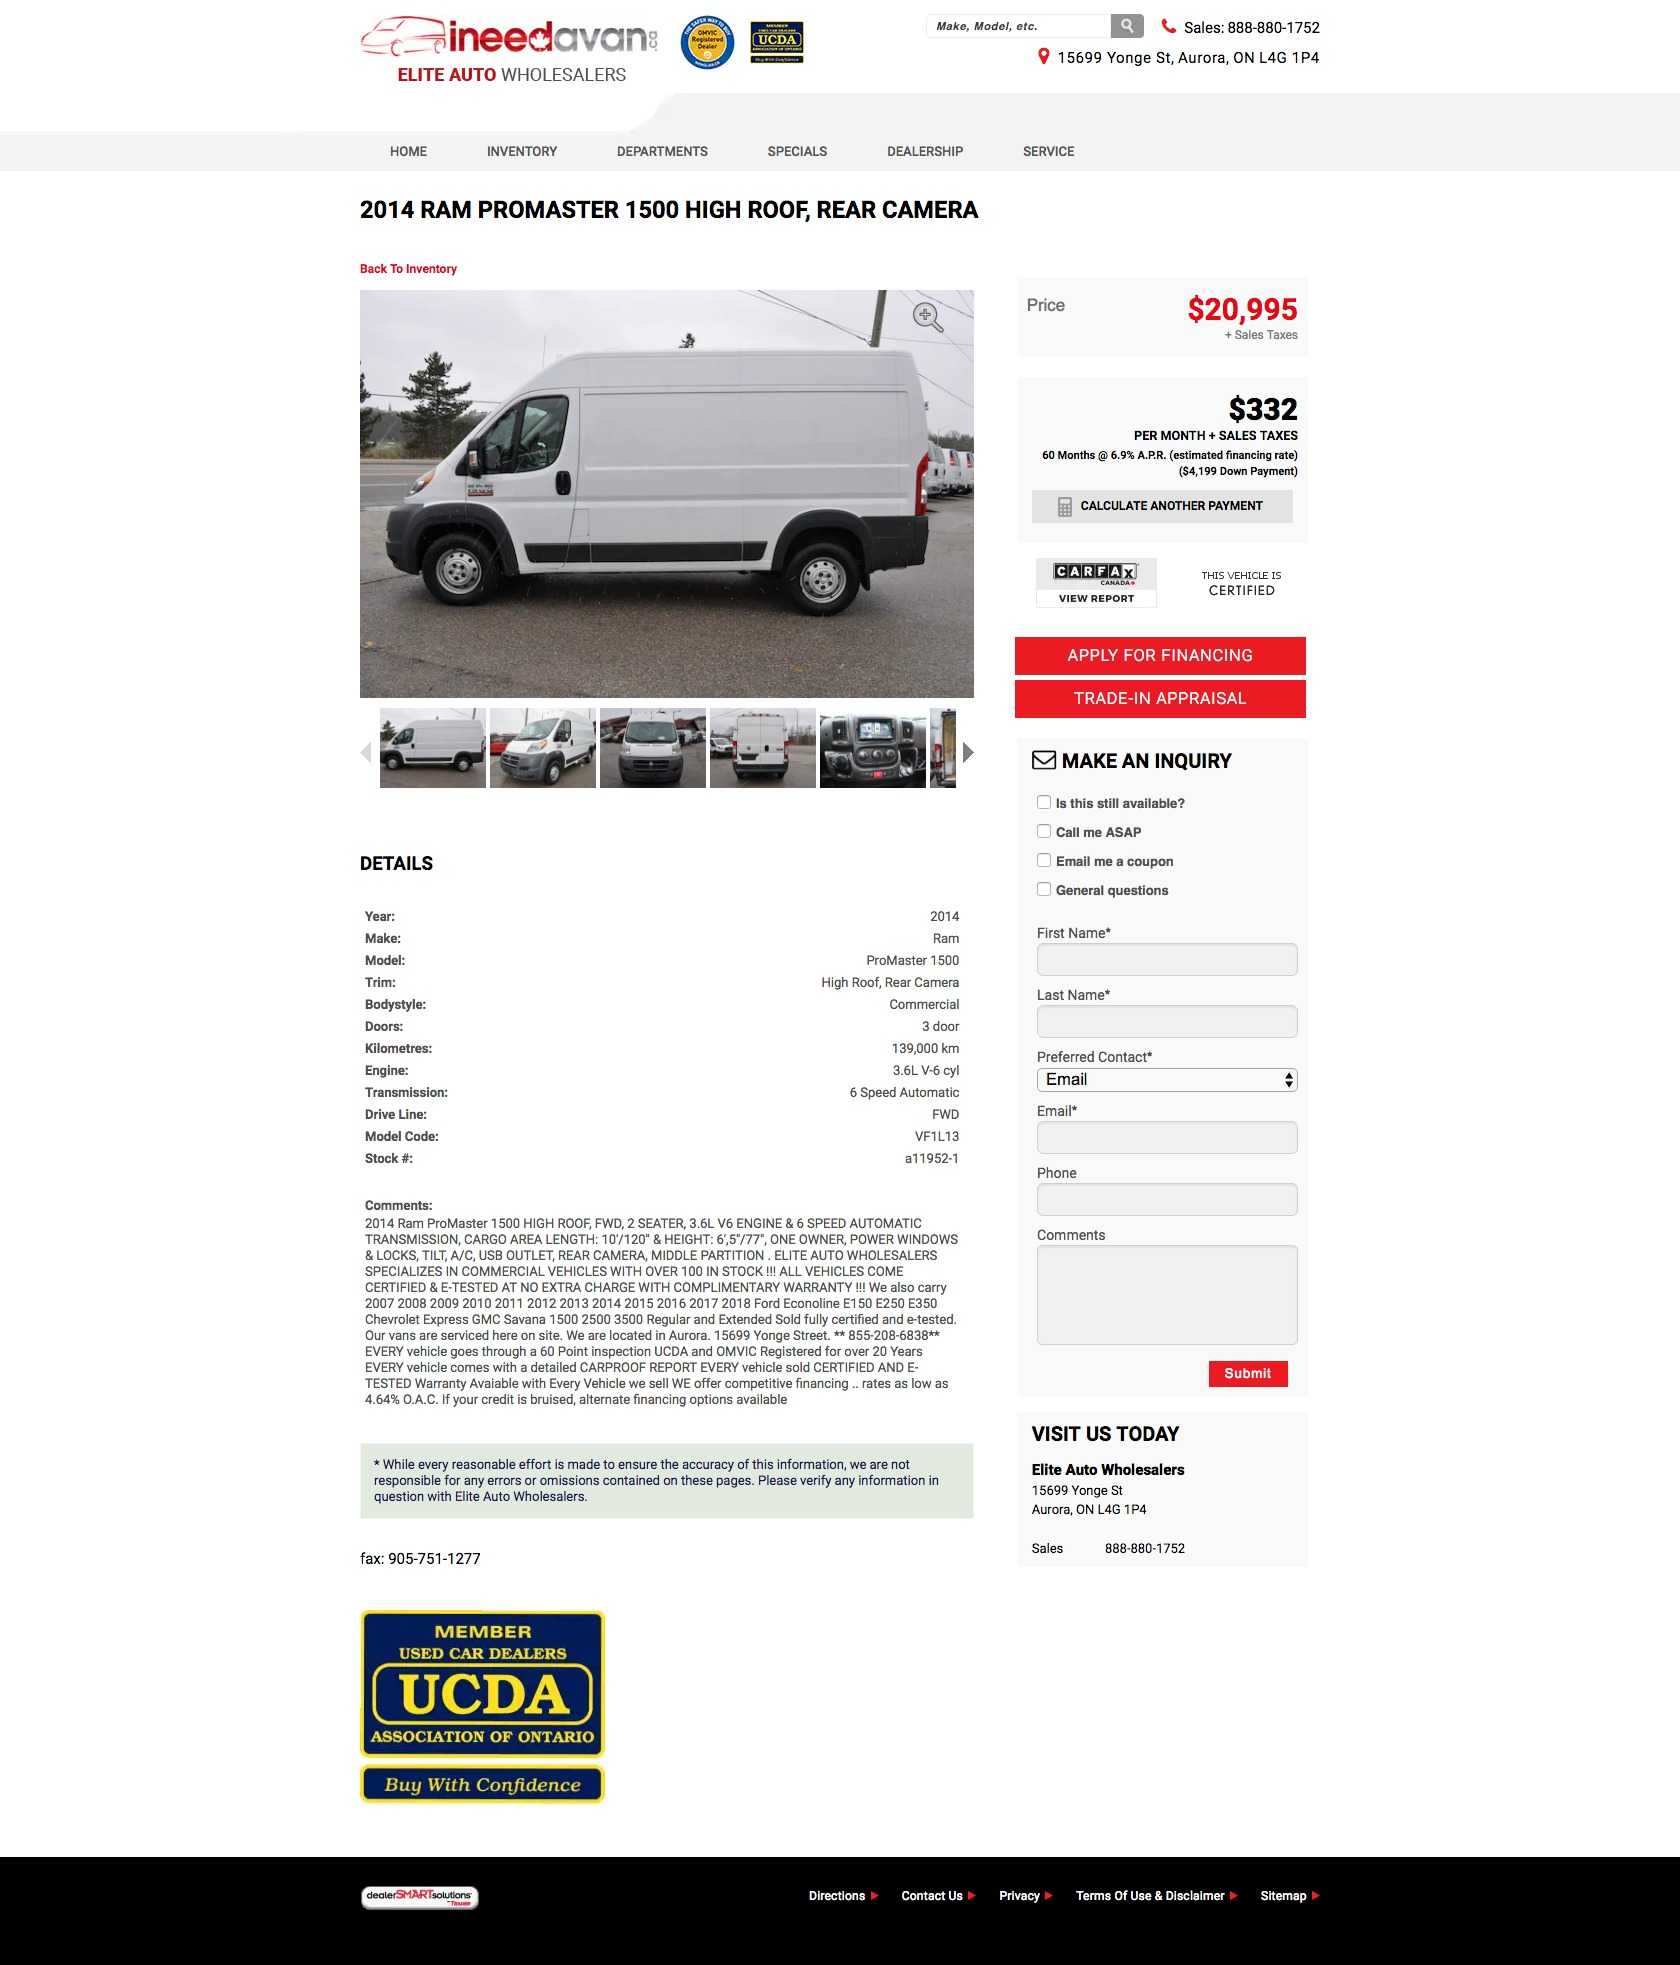car: (962, 742, 975, 763)
